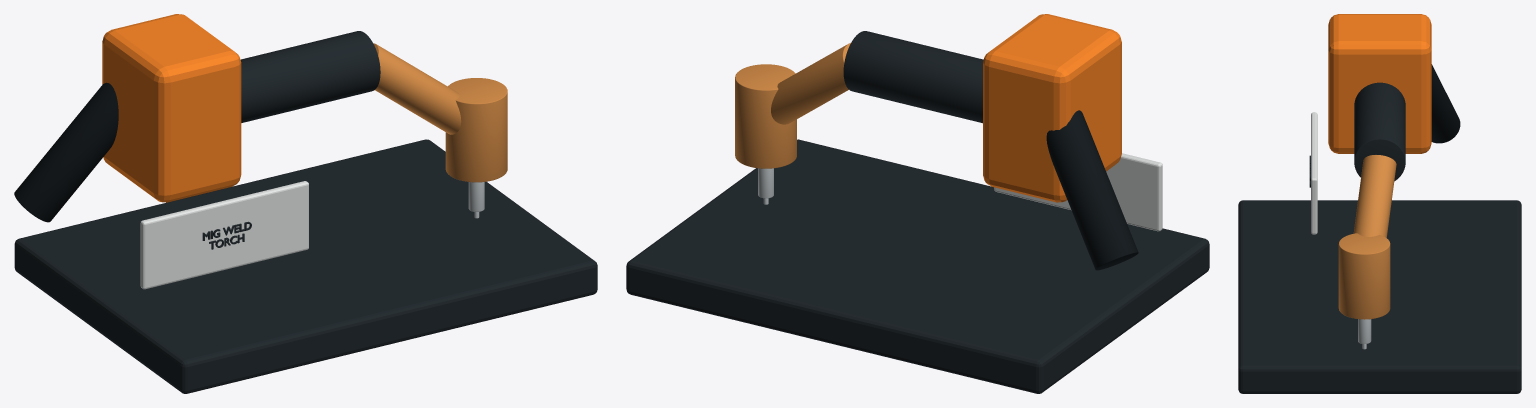
The model's file is robotic_mig_torch.glb.
3 renders of one model, left to right at view 1: azimuth 30°, elevation 25°; view 2: azimuth 150°, elevation 25°; view 3: azimuth 270°, elevation 25°, orthographic. The views are drawn at different scales.
Visible parts, largest first — view 1: BASE, ROBOT_MOUNT, NAMEPLATE, TORCH_BODY, TORCH_CABLE, GAS_NOZZLE, CURVED_NECK, LABEL, CONTACT_TIP; view 2: BASE, ROBOT_MOUNT, TORCH_BODY, TORCH_CABLE, GAS_NOZZLE, NAMEPLATE, CURVED_NECK; view 3: BASE, ROBOT_MOUNT, GAS_NOZZLE, TORCH_BODY, CURVED_NECK, TORCH_CABLE, NAMEPLATE, CONTACT_TIP.
Part boxes in pixels (x1,y1,x2,y2): BASE: (14, 139, 597, 393); ROBOT_MOUNT: (102, 14, 241, 202); NAMEPLATE: (140, 181, 308, 289); TORCH_BODY: (240, 31, 380, 122); TORCH_CABLE: (14, 82, 118, 222); GAS_NOZZLE: (445, 78, 507, 182); CURVED_NECK: (373, 43, 461, 134); LABEL: (202, 221, 251, 249); CONTACT_TIP: (468, 182, 484, 211); BASE: (626, 139, 1209, 393); ROBOT_MOUNT: (983, 14, 1121, 202); TORCH_BODY: (843, 31, 983, 123); TORCH_CABLE: (1046, 110, 1138, 270); GAS_NOZZLE: (735, 64, 796, 168); NAMEPLATE: (994, 153, 1162, 231); CURVED_NECK: (771, 43, 850, 124); BASE: (1238, 200, 1521, 393); ROBOT_MOUNT: (1328, 14, 1431, 153); GAS_NOZZLE: (1338, 233, 1390, 319); TORCH_BODY: (1354, 82, 1405, 181); CURVED_NECK: (1353, 155, 1396, 237); TORCH_CABLE: (1431, 64, 1460, 143); NAMEPLATE: (1311, 112, 1317, 234); CONTACT_TIP: (1358, 319, 1371, 343).
Size of what is drawn, in the model's own units: 1.72 by 0.98 by 1.1.
